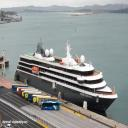cruises: (14, 36, 120, 116)
